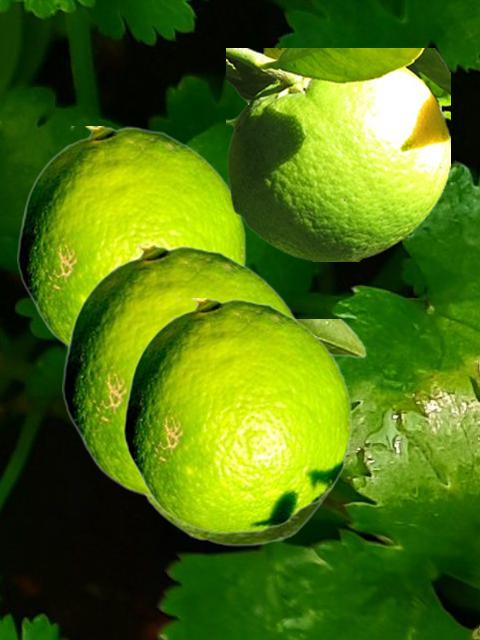dalandan: (62, 245, 300, 499), (123, 298, 351, 533), (17, 126, 245, 348), (143, 319, 366, 545), (226, 48, 449, 260)
